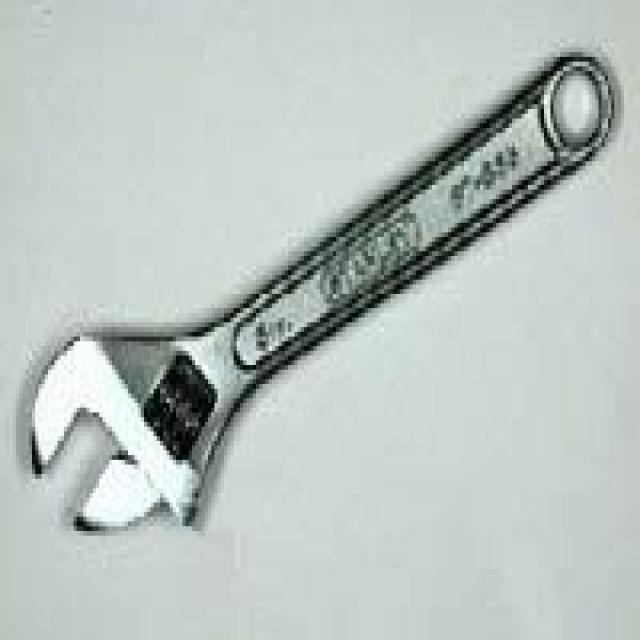wrench: (15, 61, 640, 571)
